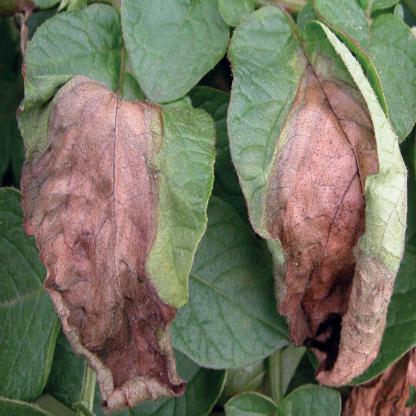potato leaf late blight: (18, 10, 219, 411), (228, 1, 411, 393)
